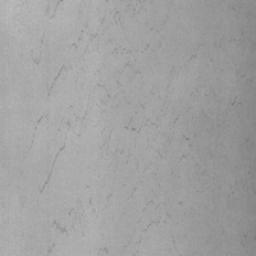Silk spot: (49, 143, 65, 166), (39, 169, 52, 194), (54, 64, 72, 81), (124, 117, 141, 133), (53, 220, 67, 233), (112, 46, 132, 54), (47, 83, 54, 96)
